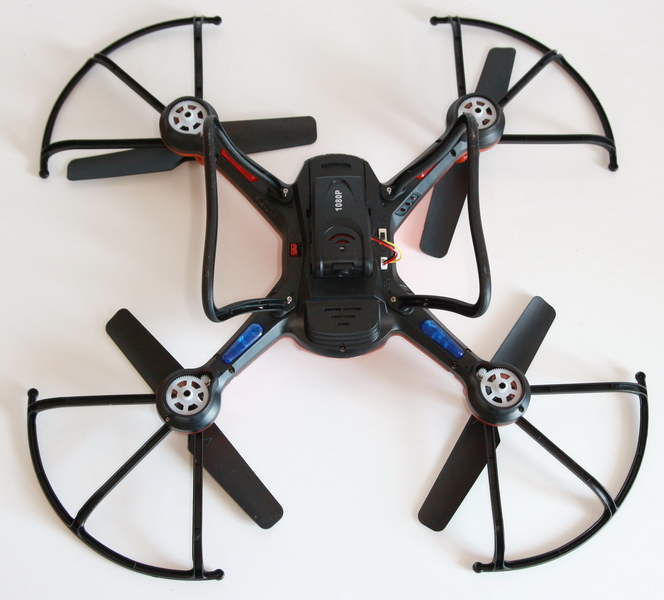drone: (25, 15, 653, 585)
